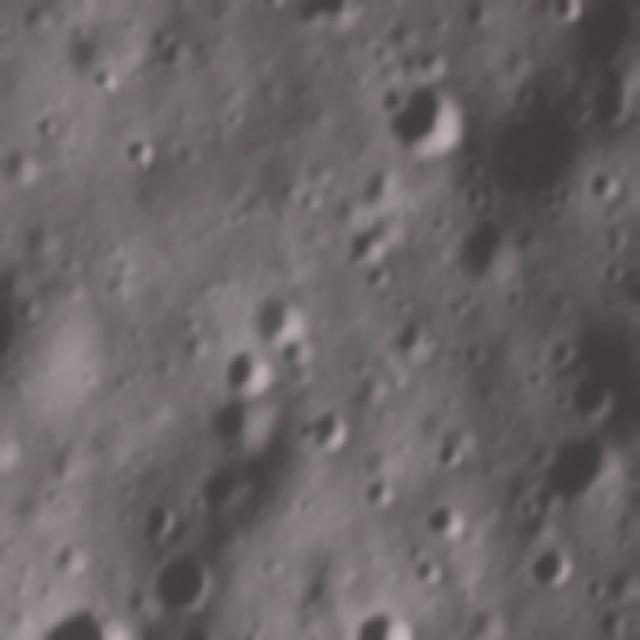crater: (487, 93, 585, 198), (534, 429, 624, 511), (385, 78, 481, 153), (455, 208, 531, 282), (30, 594, 136, 640), (153, 546, 224, 612), (203, 395, 269, 454), (296, 400, 356, 457), (589, 54, 640, 120), (574, 0, 640, 51), (521, 542, 588, 590), (252, 286, 311, 340), (225, 339, 283, 392), (198, 458, 248, 514), (387, 310, 442, 358), (358, 155, 404, 211), (356, 604, 427, 640), (571, 371, 620, 422), (0, 140, 45, 195), (0, 409, 35, 478), (115, 124, 162, 173), (418, 498, 467, 544), (136, 490, 179, 538), (587, 158, 633, 202), (83, 58, 132, 99), (154, 22, 194, 64), (414, 550, 454, 584), (30, 104, 70, 134), (598, 254, 634, 284), (176, 618, 224, 640), (554, 0, 588, 17), (257, 0, 300, 12)
